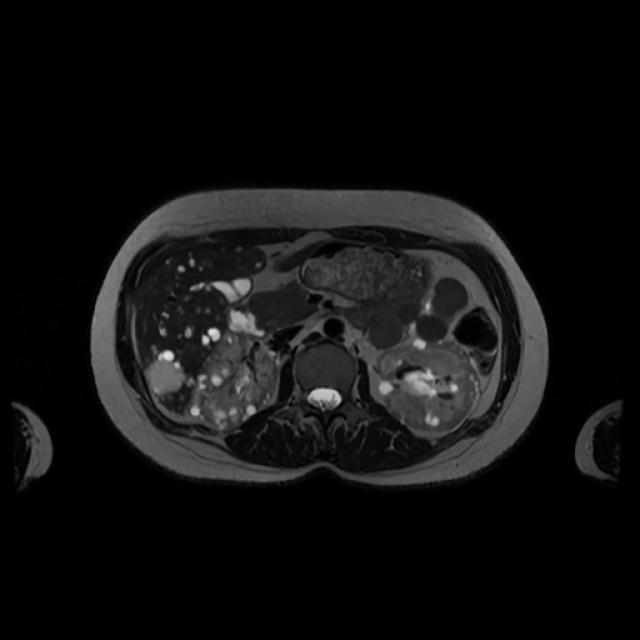sag: (189, 334, 278, 432)
sol: (376, 337, 480, 435)
